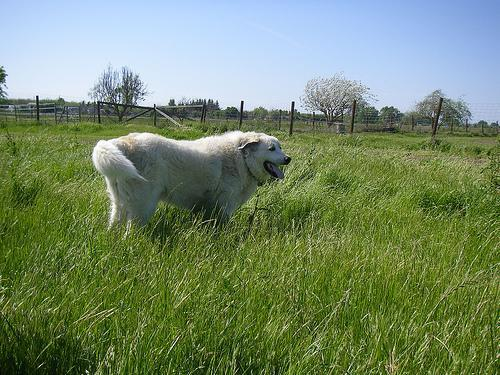Great_Pyrenees: (92, 130, 290, 239)
